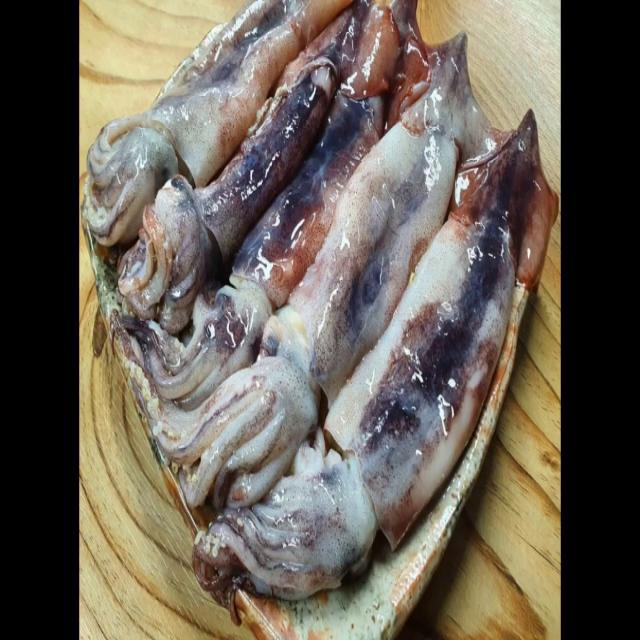squid: (193, 106, 560, 600), (155, 28, 496, 510), (146, 0, 431, 407), (116, 1, 394, 333), (80, 0, 354, 252)
